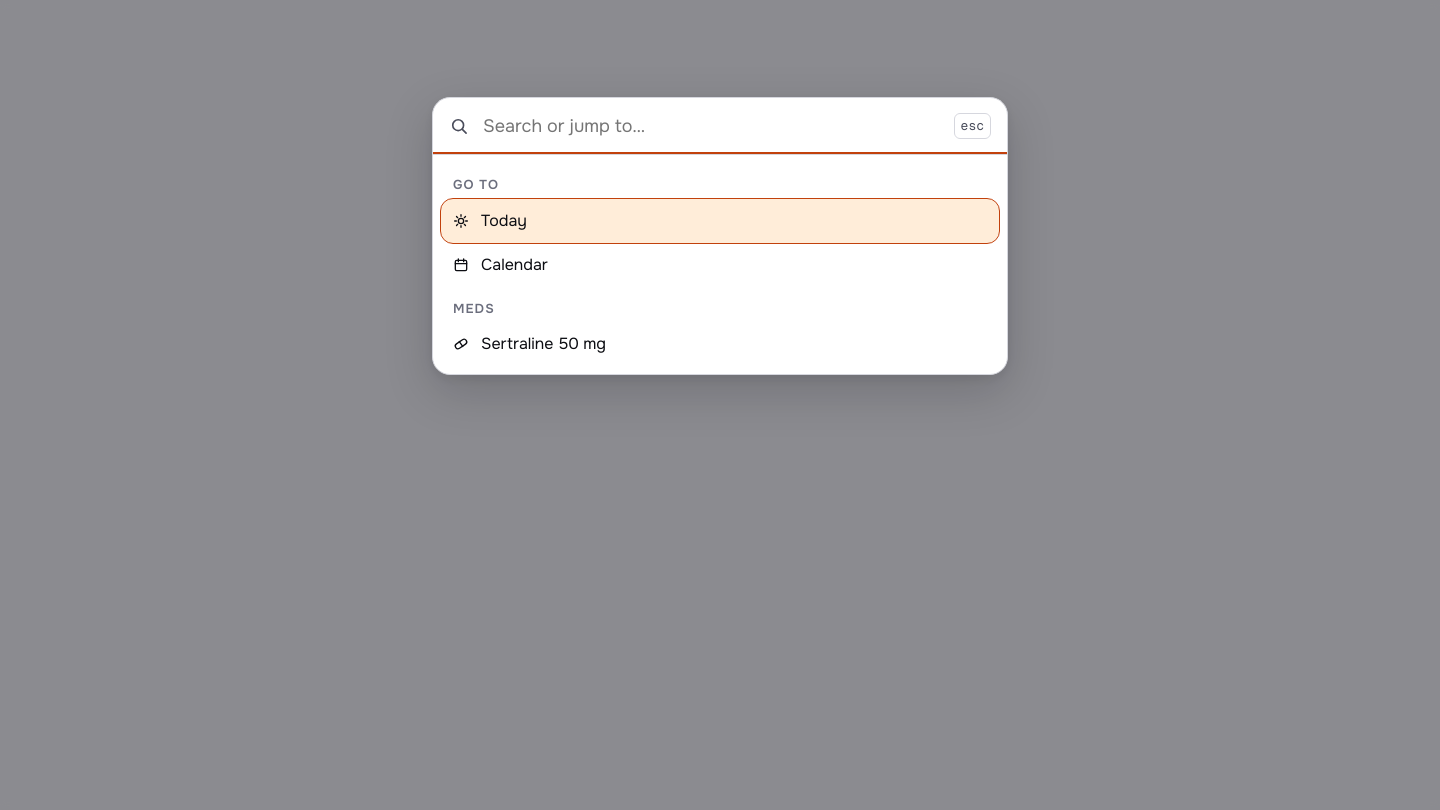
CommandPalette › says when nothing matches
Type "zzz" into the dropdown at {"x": 711, "y": 126}, box [481,98,942,154]
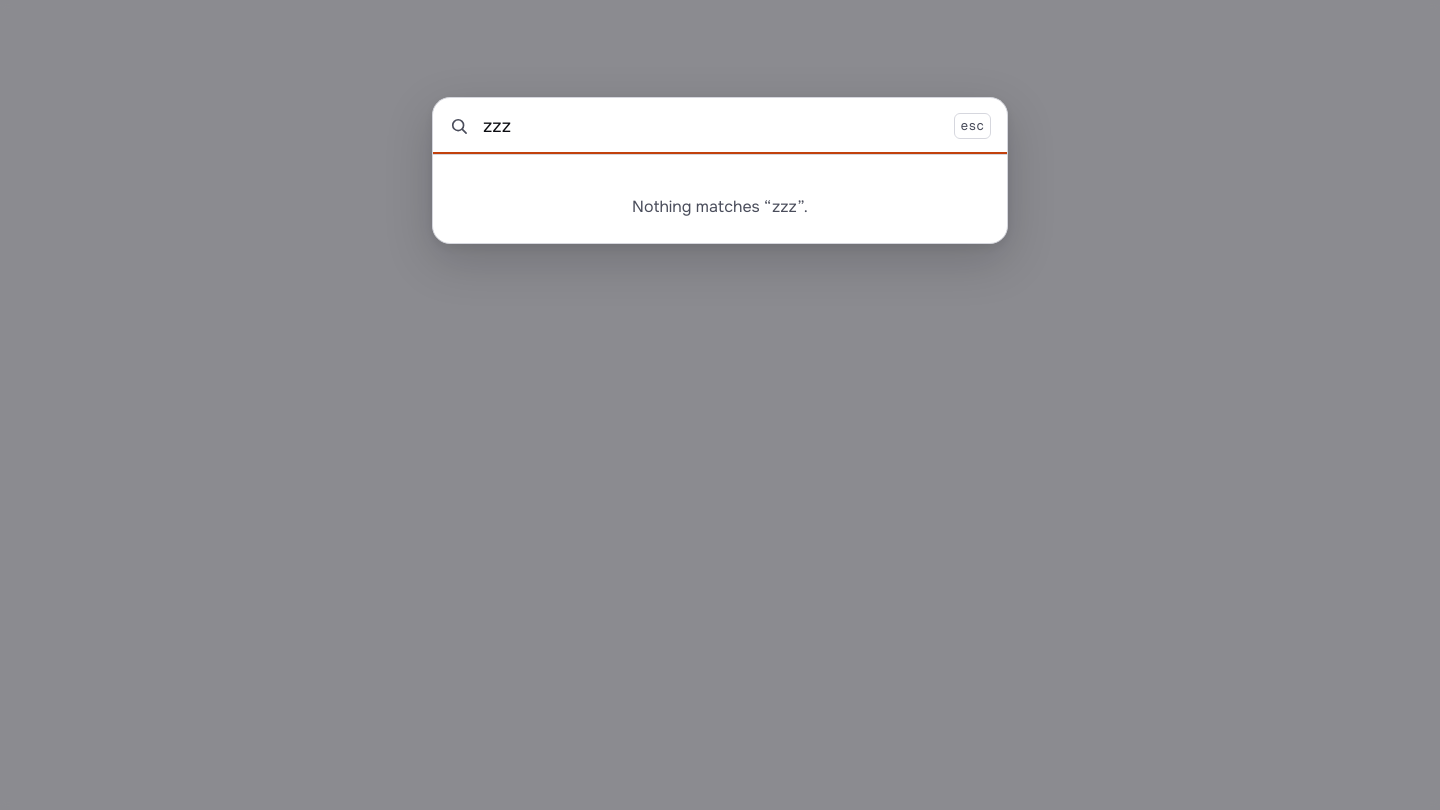
Check: the message shows "Nothing matches", box [632,196,772,217]
